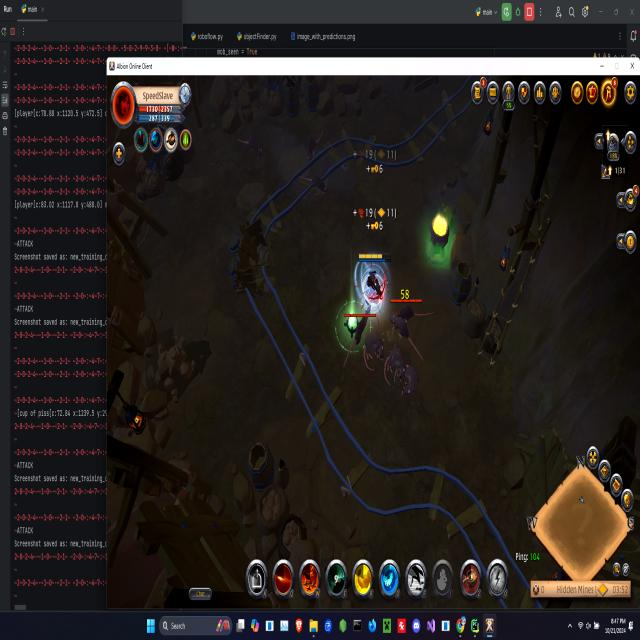fiber: (424, 207, 453, 270)
ore: (341, 303, 375, 370), (383, 293, 421, 345), (304, 120, 326, 168), (233, 131, 268, 161), (300, 171, 334, 201)
red: (354, 252, 396, 318)
